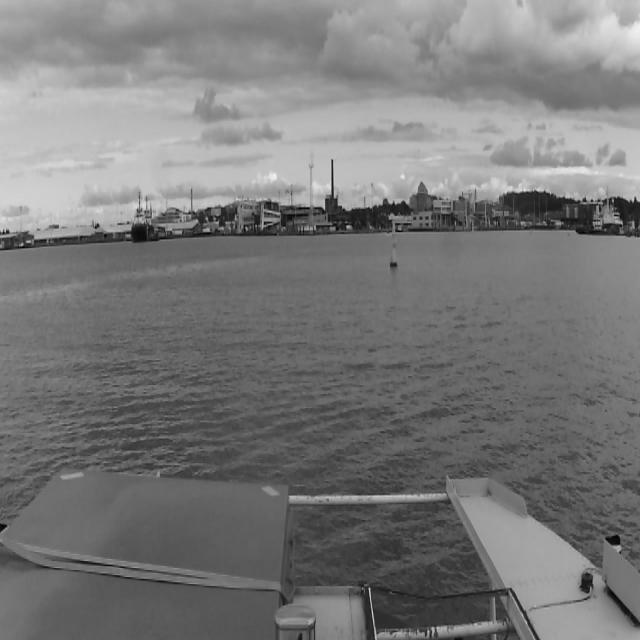buoy: (382, 208, 402, 276), (470, 222, 476, 238)
ship: (574, 186, 630, 237), (148, 207, 198, 231), (128, 195, 150, 246)
